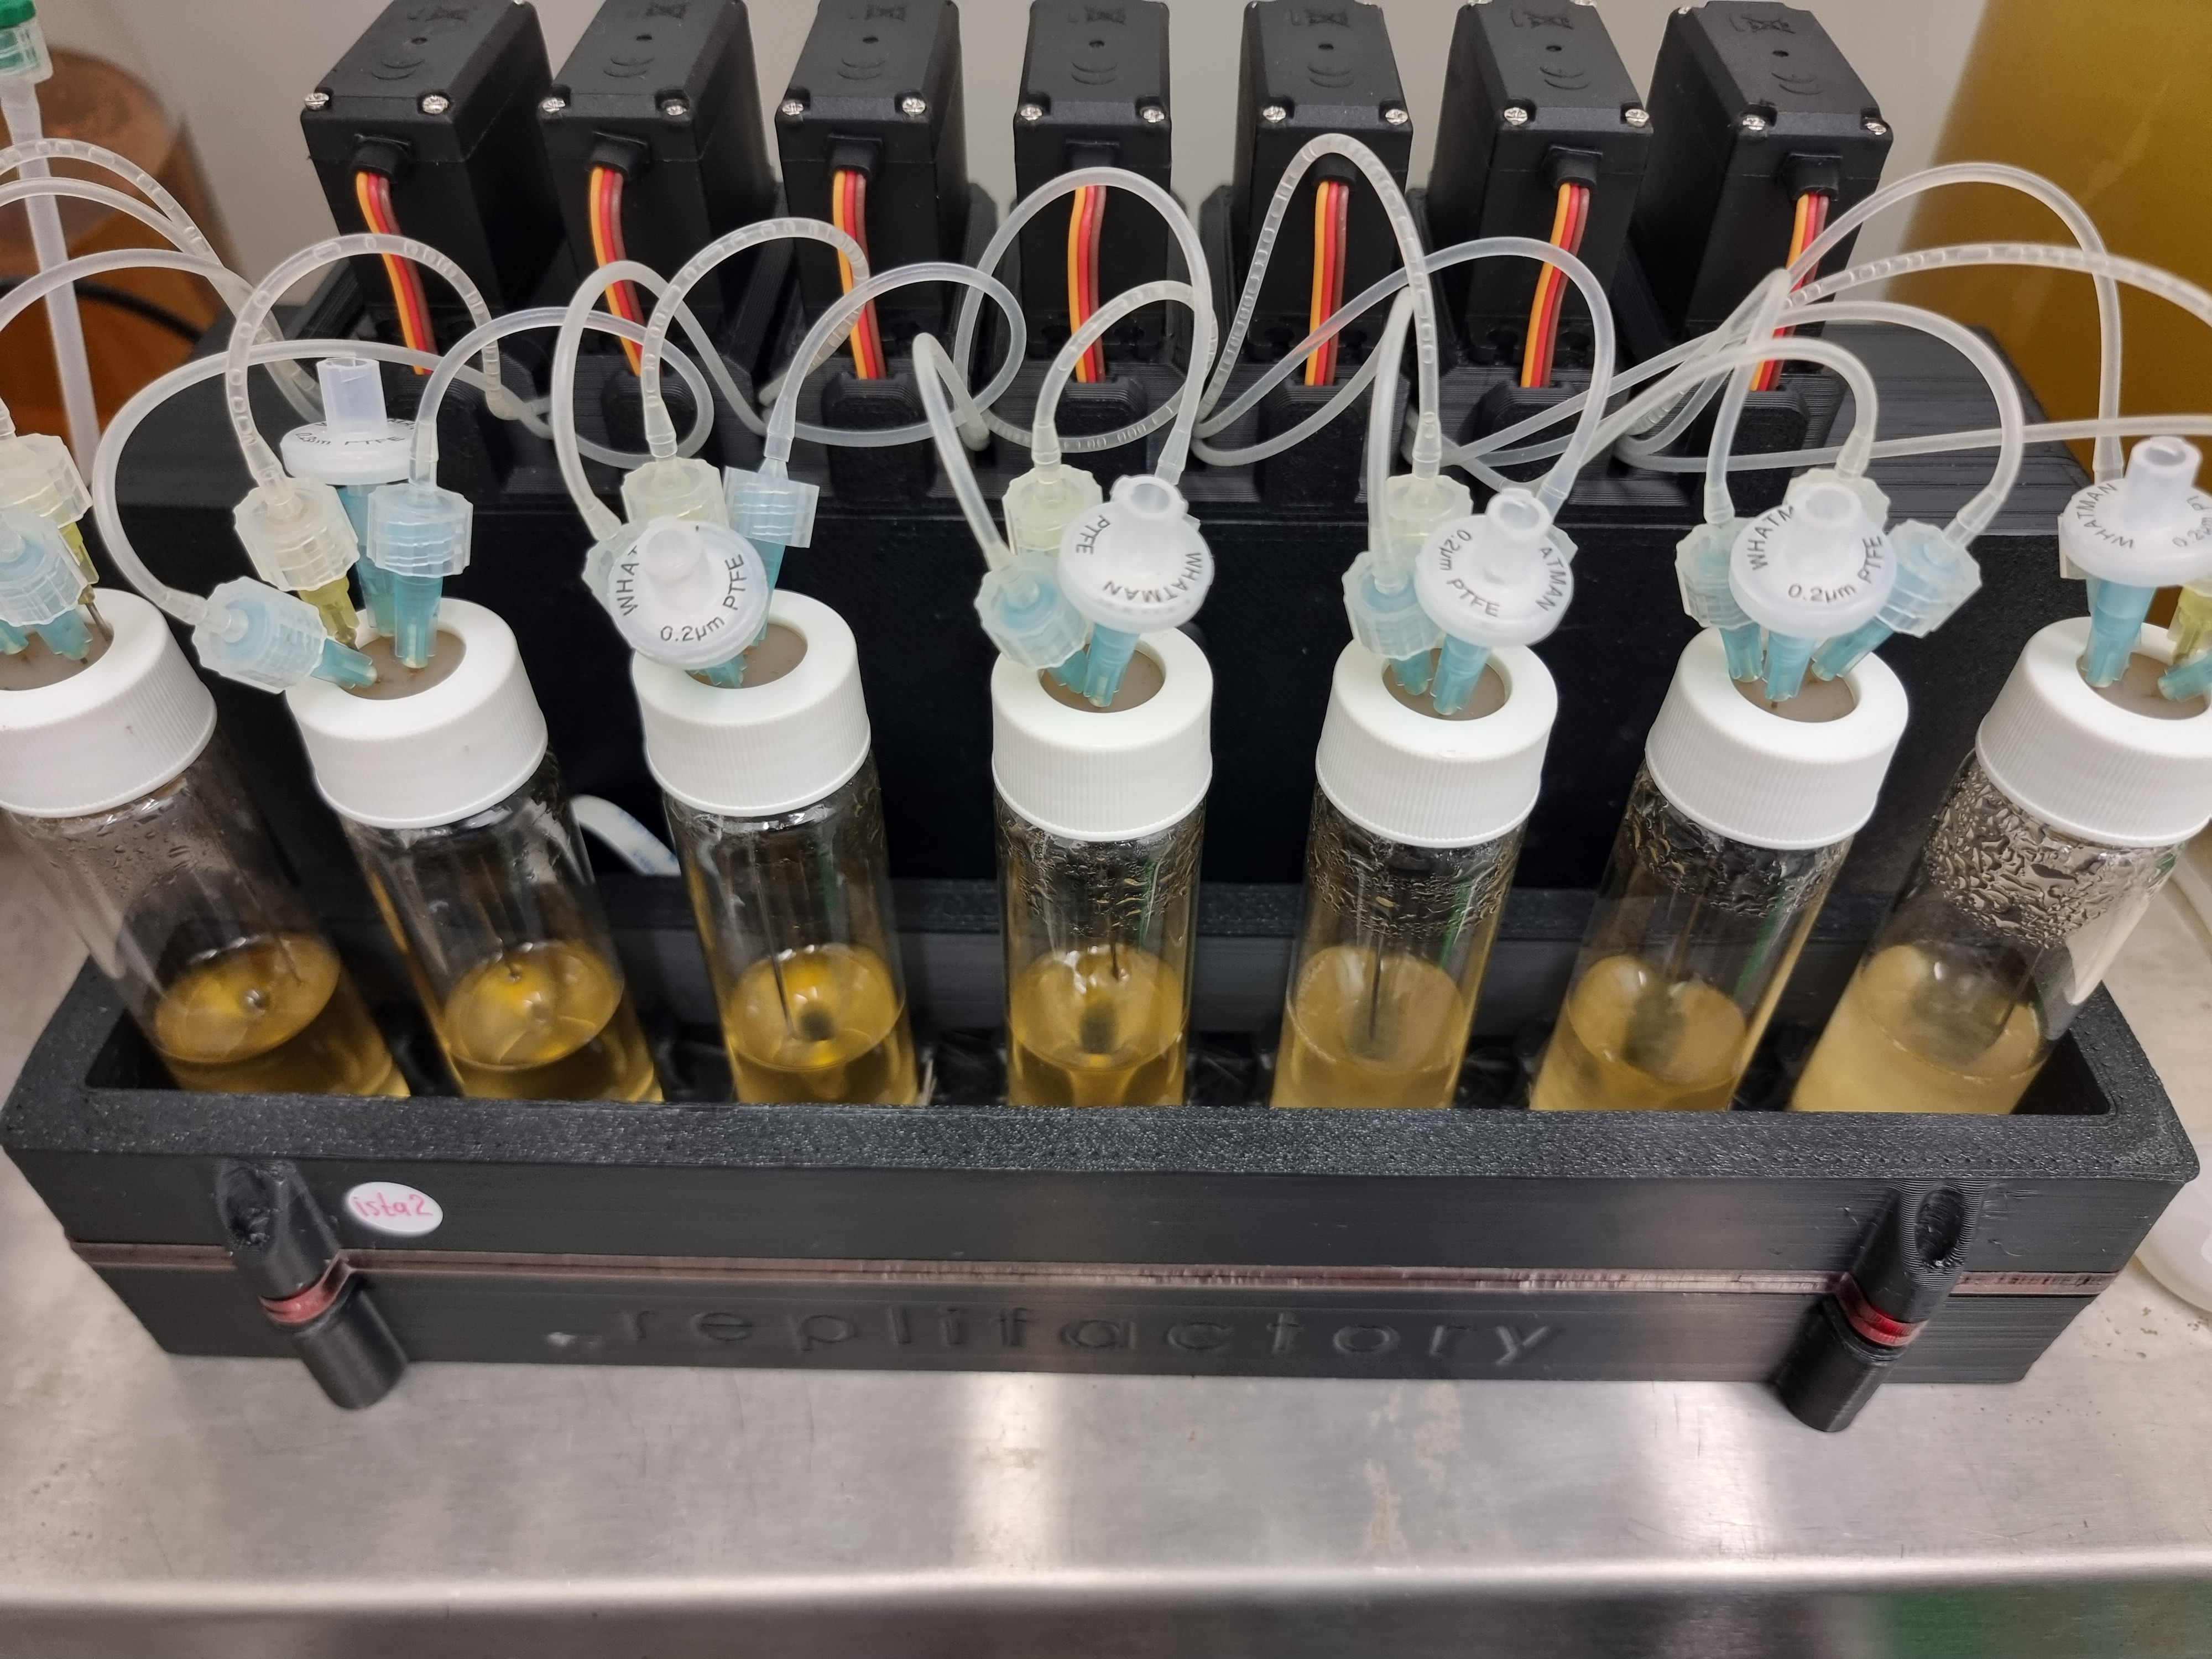vial: (2, 579, 418, 1100), (1789, 619, 2212, 1114), (273, 591, 669, 1101), (1540, 617, 1914, 1112), (622, 580, 932, 1108), (1268, 620, 1562, 1107), (989, 615, 1212, 1103)
